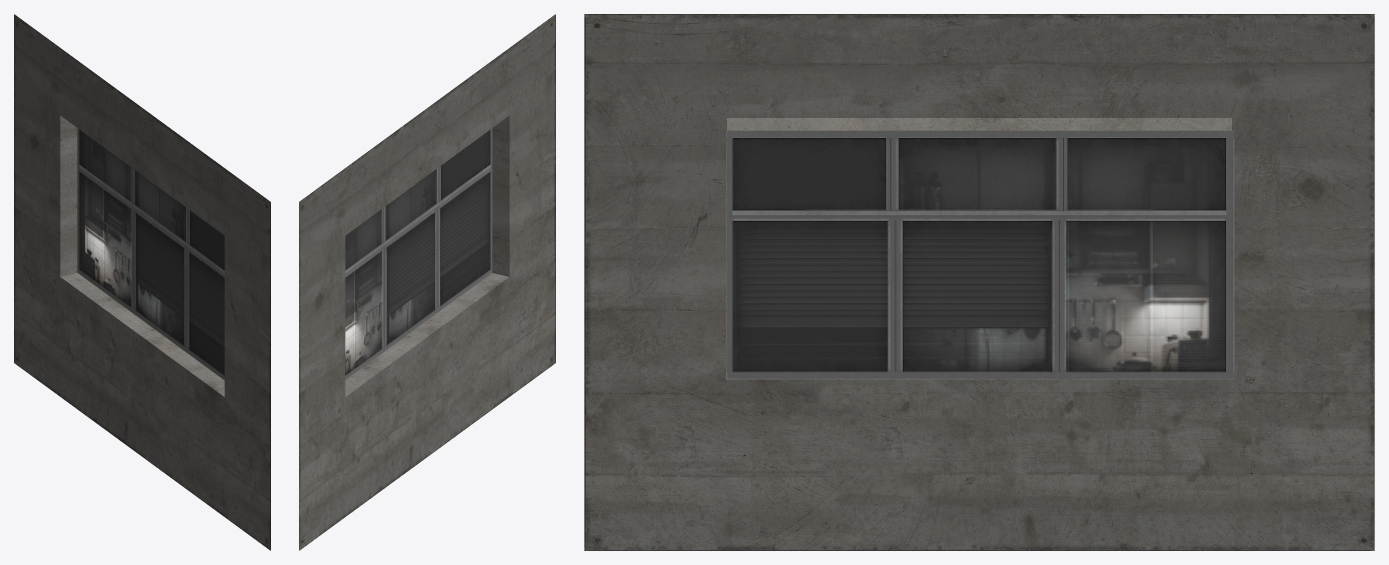
Rendered from CP_Windows_B_4x3m_04.fbx.
3 renders of one model, left to right at view 1: azimuth 30°, elevation 25°; view 2: azimuth 150°, elevation 25°; view 3: azimuth 270°, elevation 25°, orthographic. The views are drawn at different scales.
Parts seen in each view (by area): view 1: CP_Windows_B_4x3m_04; view 2: CP_Windows_B_4x3m_04; view 3: CP_Windows_B_4x3m_04.
Part boxes in pixels (left/top/right/bottom): CP_Windows_B_4x3m_04: left=14, top=14, right=270, bottom=550; CP_Windows_B_4x3m_04: left=299, top=14, right=555, bottom=550; CP_Windows_B_4x3m_04: left=584, top=14, right=1374, bottom=550.
Size of the model in its own units: 15.54 by 300 by 400.
